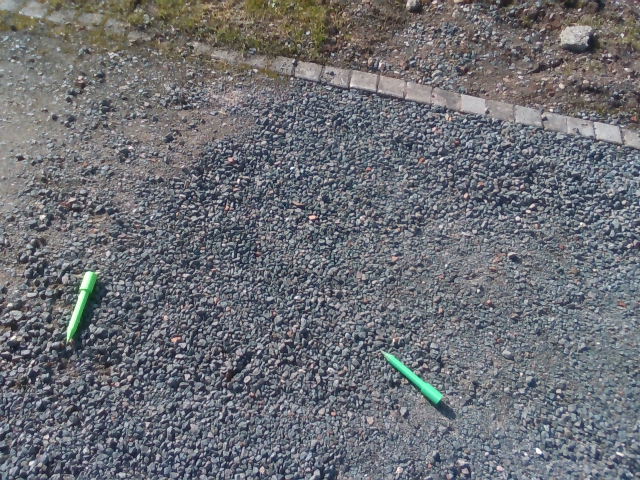Probe: (374, 344, 446, 408), (62, 267, 100, 346)
